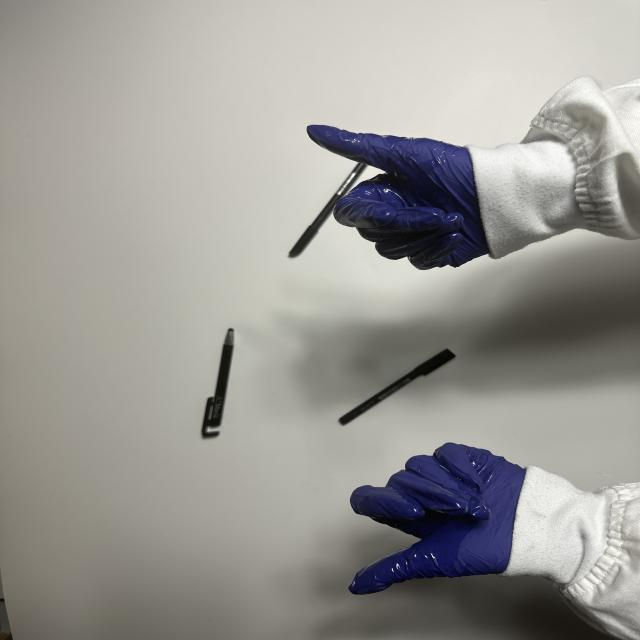gloves_contaminated: (349, 443, 525, 594), (307, 125, 488, 270)
